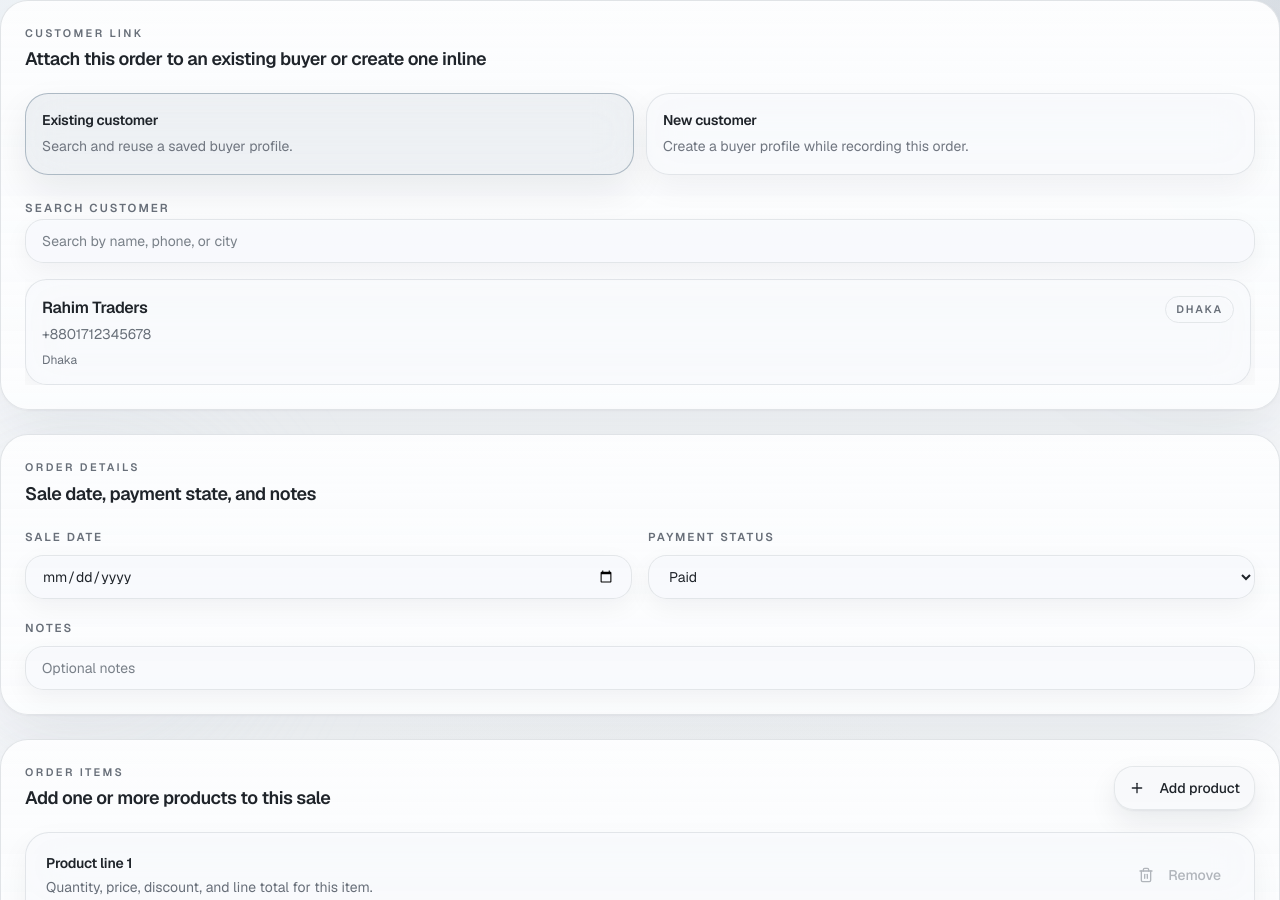
Test: SaleForm › can add another product row
The width and height of the screenshot is (1280, 900).
Click the button "Add product" at [1185, 788], box [1114,766,1255,810]
(page scrolled)
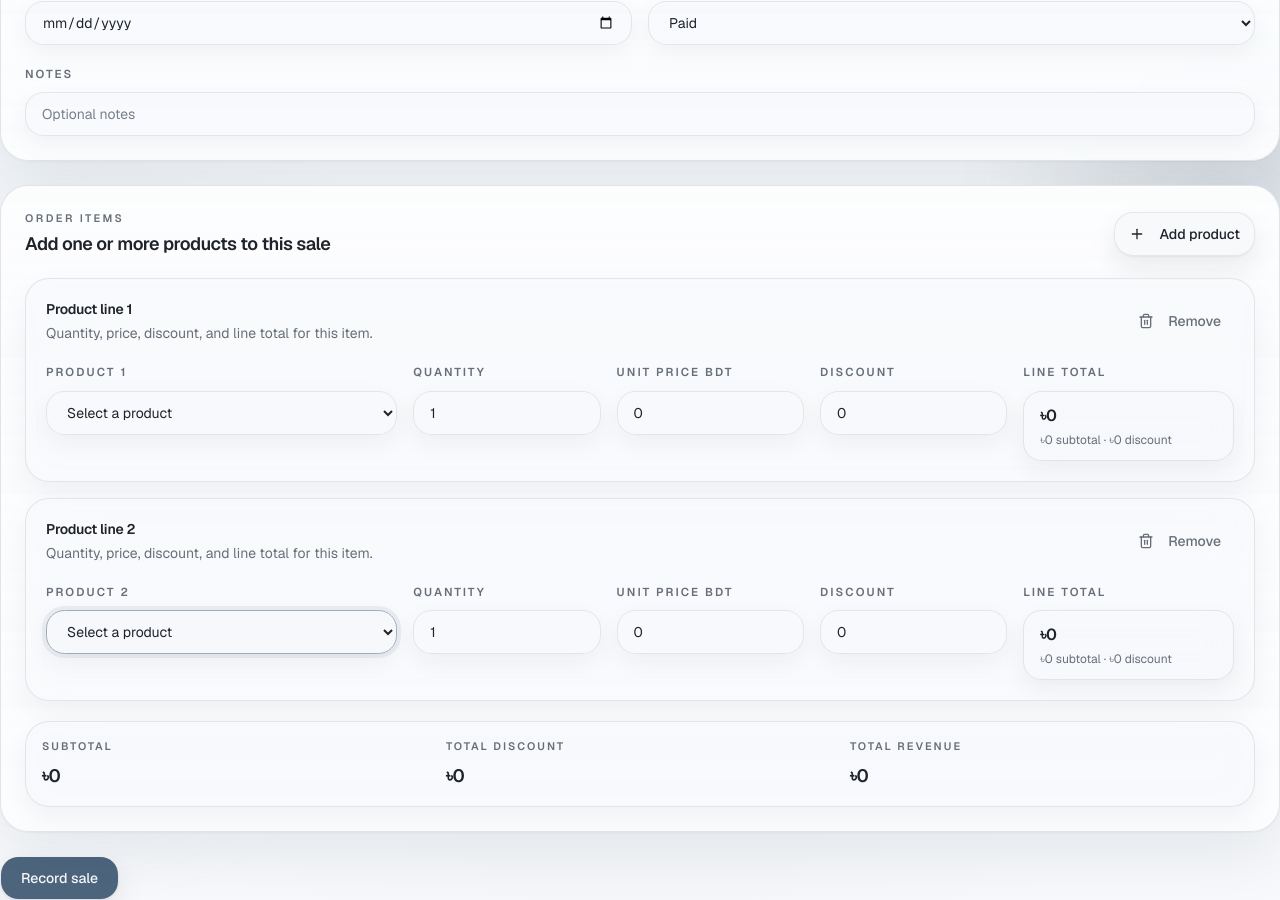
Now the dropdown labelled "Product 2" is shown, box [46,610,397,654]
